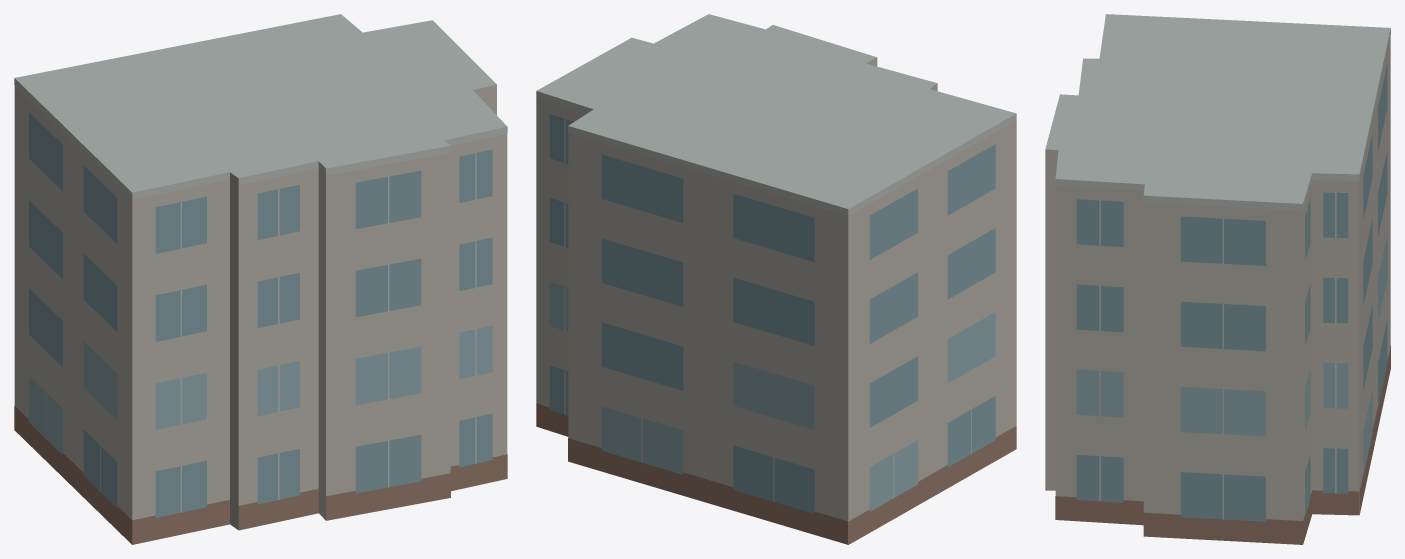
File: survey-upis-32681678.glb
The picture shows the model from 3 angles, left to right: view 1: azimuth 30°, elevation 25°; view 2: azimuth 150°, elevation 25°; view 3: azimuth 270°, elevation 25°; orthographic projection. The views are drawn at different scales.
Parts seen in each view (by area): view 1: survey-upis-32681678.tmp; view 2: survey-upis-32681678.tmp; view 3: survey-upis-32681678.tmp.
Boxes of the visible parts, x1,y1,x2,y2 form: survey-upis-32681678.tmp: [14, 14, 507, 544]; survey-upis-32681678.tmp: [536, 14, 1016, 544]; survey-upis-32681678.tmp: [1045, 14, 1390, 544].
Size of the model in its own units: 14.59 by 12.2 by 11.22.
